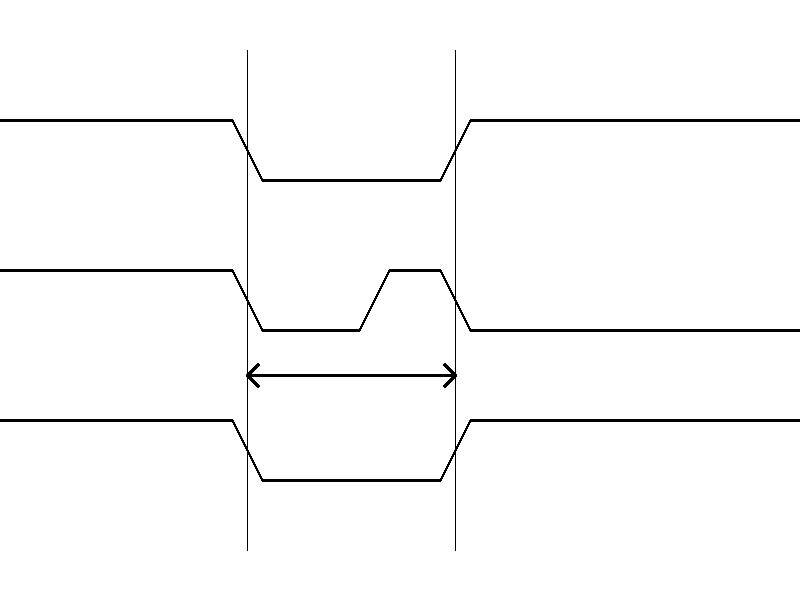double_arrow: (247, 360, 455, 390)
